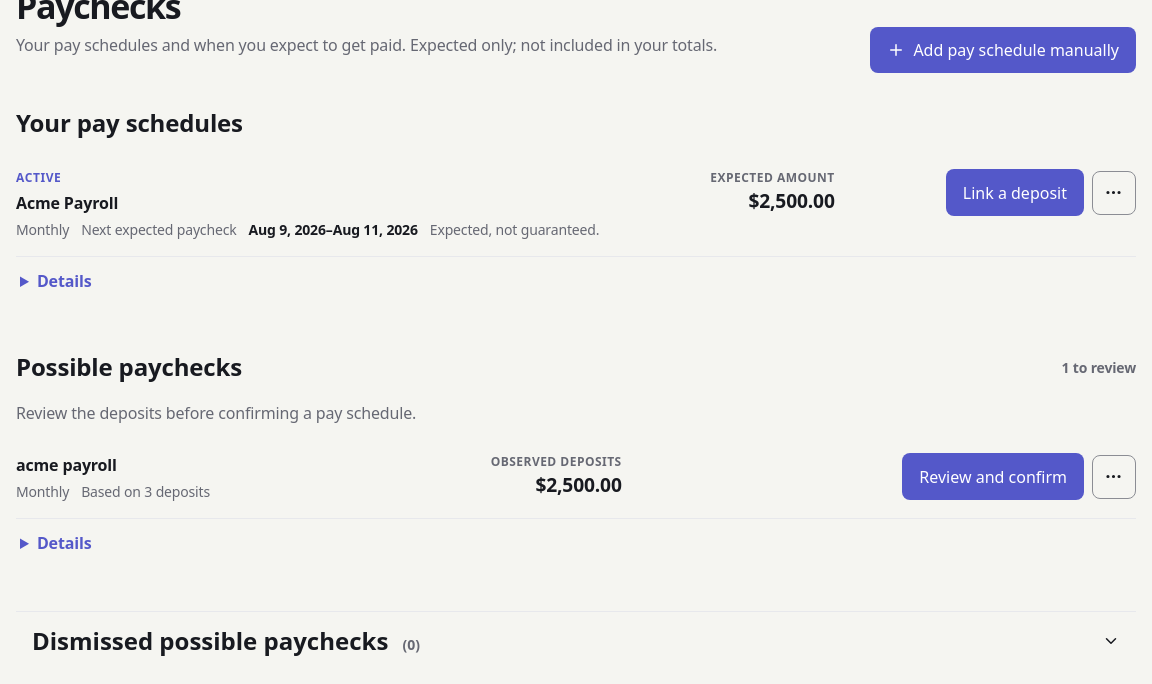
Paychecks page › closes a stale review with a visible conflict and requires explicit review of replacement evidence
expect the heading "Your pay schedules" is shown: met, box [16,105,243,141]
Click the button with aria-label "Review and confirm: acme payroll" at (993, 477), box [902,453,1084,500]
(page scrolled)
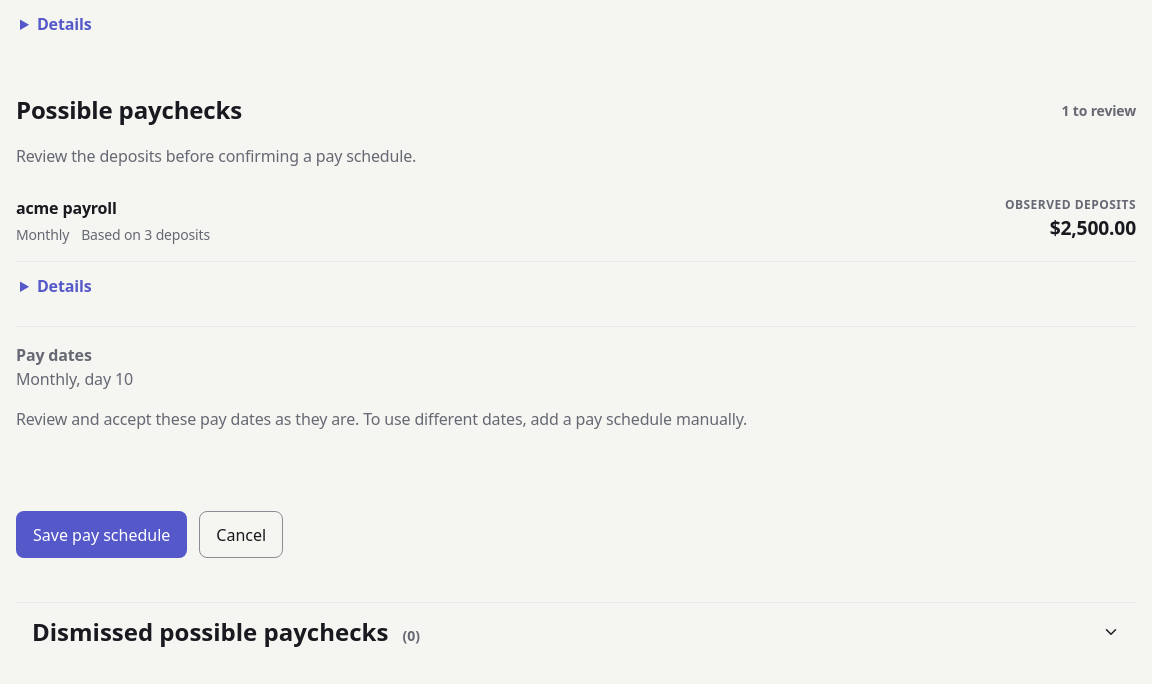
Click the button "Save pay schedule" at (102, 535), box [16,511,187,558]
(page scrolled)
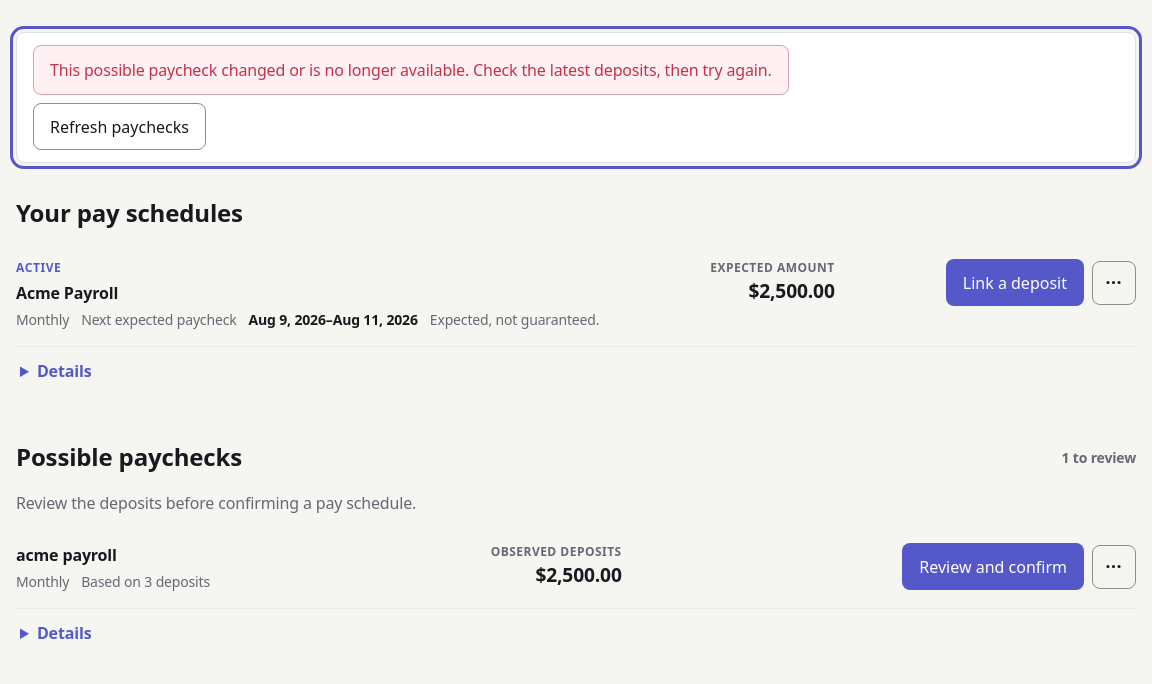
expect the button with aria-label "Review and confirm: acme payroll" is enabled: met, box [902,543,1084,590]
expect the message shows "Check the latest deposits": met, box [50,59,772,81]
expect the button "Save pay schedule" is gone: met
